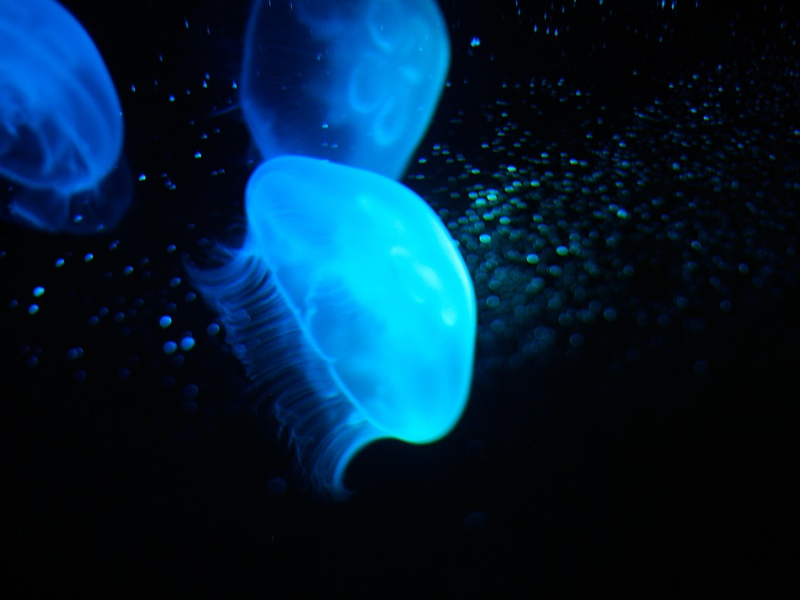Jellyfish: (186, 151, 478, 494), (234, 0, 450, 180), (0, 0, 126, 235)
